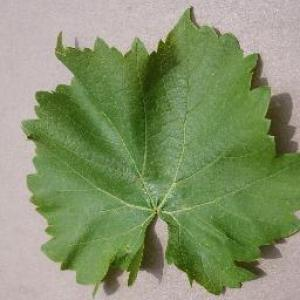Folha: (21, 6, 300, 299)
